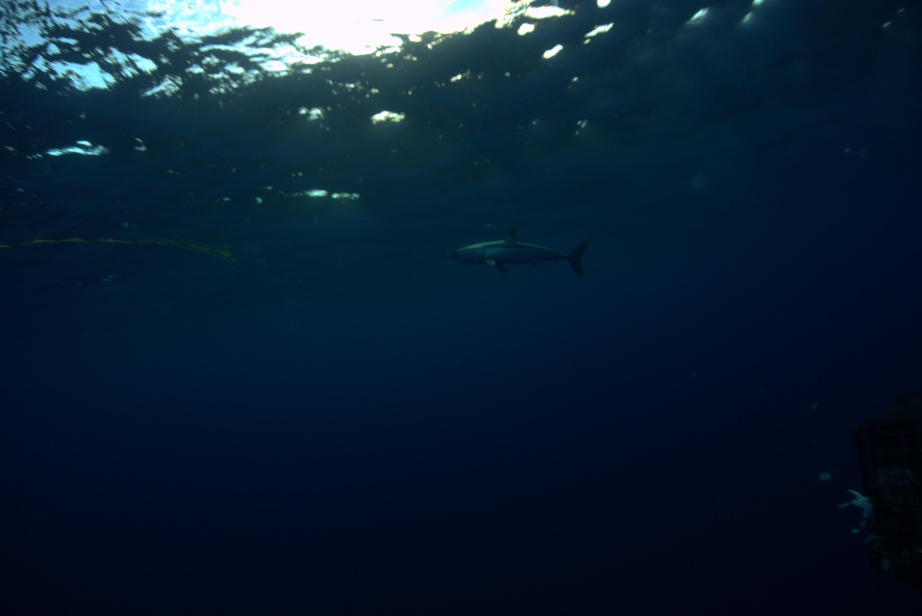Mako: (434, 219, 592, 286)
